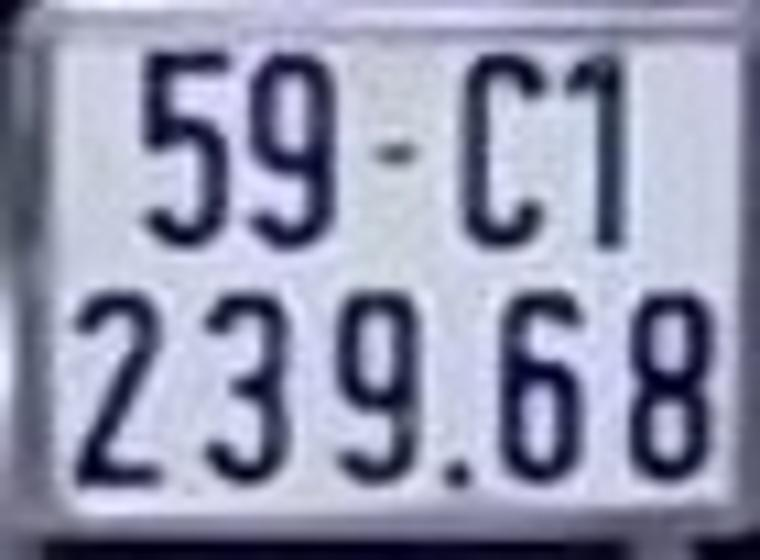-: (372, 135, 416, 168)
.: (440, 459, 471, 498)
1: (564, 54, 638, 252)
2: (66, 287, 168, 490)
3: (199, 291, 297, 490)
5: (136, 45, 241, 251)
6: (490, 287, 592, 493)
8: (623, 288, 718, 489)
9: (326, 291, 431, 490), (247, 50, 343, 249)
C: (451, 47, 550, 248)
